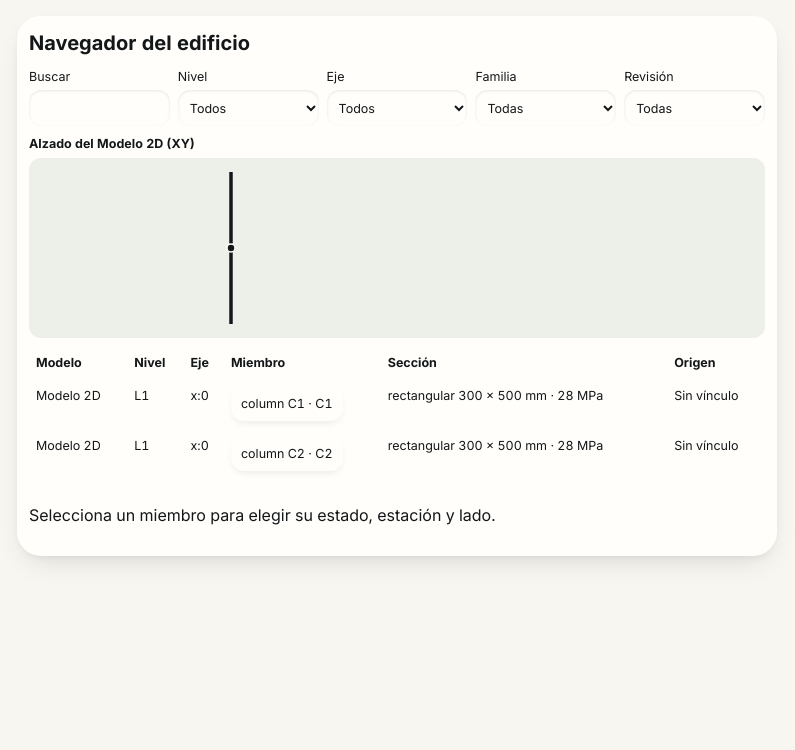
Test: ignora una respuesta tardía si cambia el miembro seleccionado aunque el proveedor ignore abort
The width and height of the screenshot is (795, 750).
Step 1. Click the button with aria-label "Seleccionar column C1" → {"x": 287, "y": 404}, box [231, 386, 343, 422]
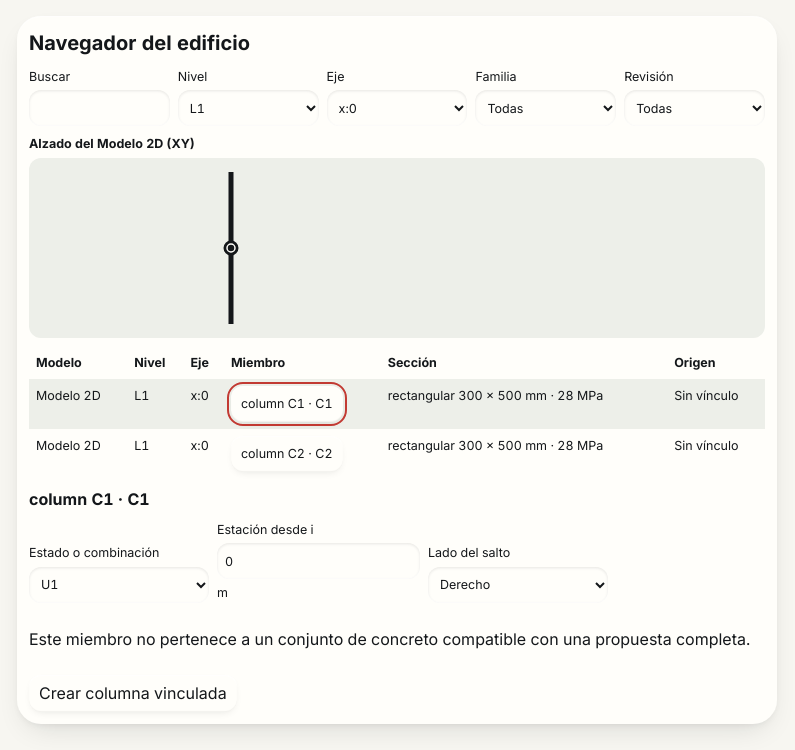
Step 2. Click the button "Crear columna vinculada" → {"x": 133, "y": 694}, box [29, 676, 237, 712]
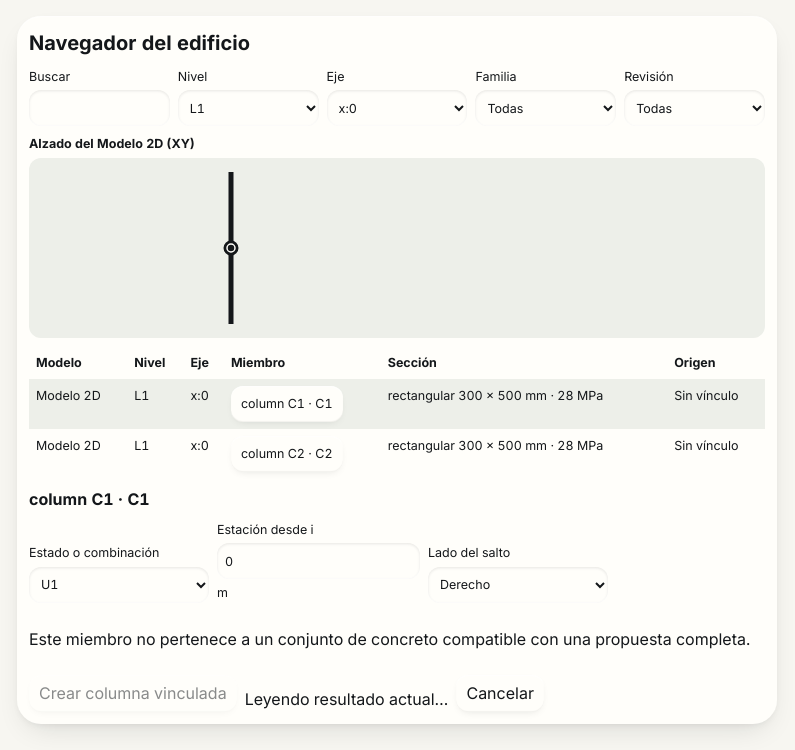
Step 3. Click the button with aria-label "Seleccionar column C2" → {"x": 287, "y": 454}, box [231, 436, 343, 472]
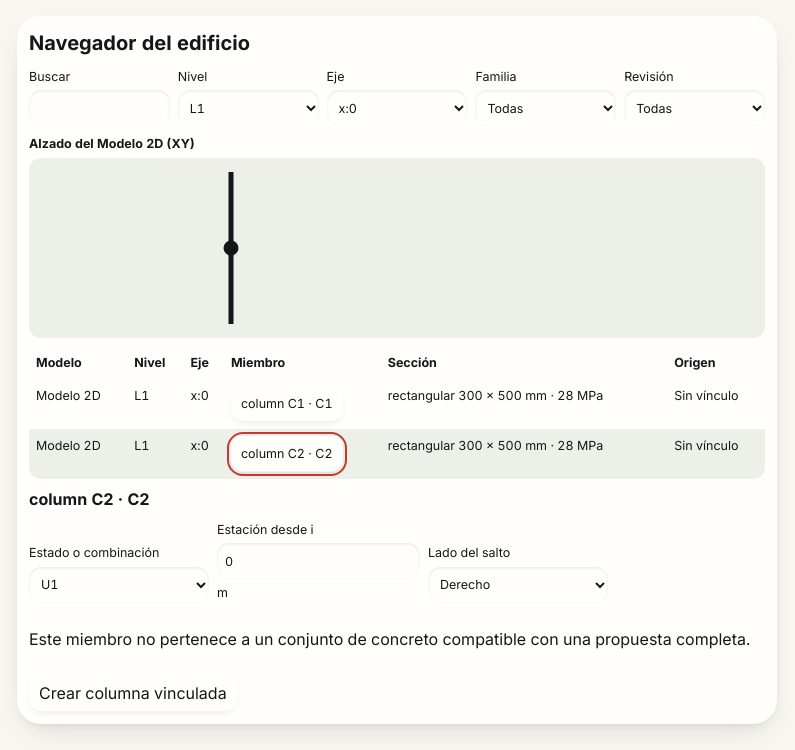
expect the element with test id "member-selection" shows "C2": met, box [128, 489, 150, 509]
